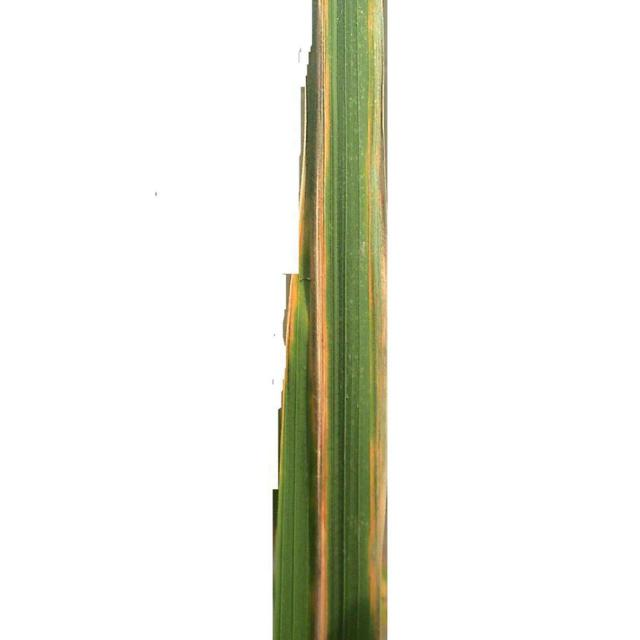Bacterial leaf blight: (367, 1, 389, 640), (312, 0, 332, 640), (278, 276, 302, 354)
